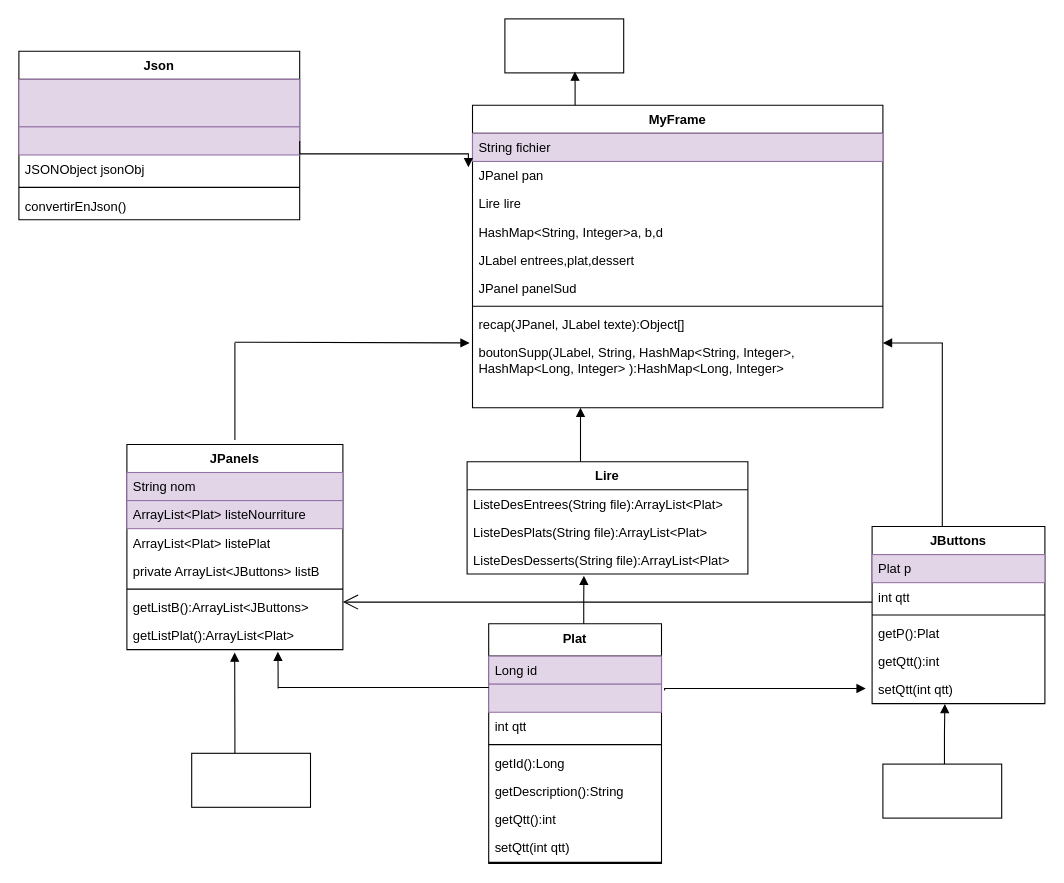
Image size: 1064x883. Some labels were removed from this diagram. The shapes that lost their labels are listed below. From the top down, each one's centre as x and y in pixels, then its label:
At (x=564, y=45): "Main".
At (x=159, y=102): "HashMap<Long, Integer> CLesEntrees, CLesPlats, CLesDesserts".
At (x=159, y=140): "String heure".
At (x=575, y=697): "String description".
At (x=250, y=779): "JPanel".
At (x=942, y=790): "JButton".
